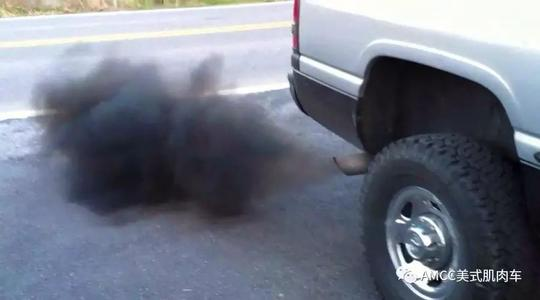smoke: (41, 52, 291, 223)
